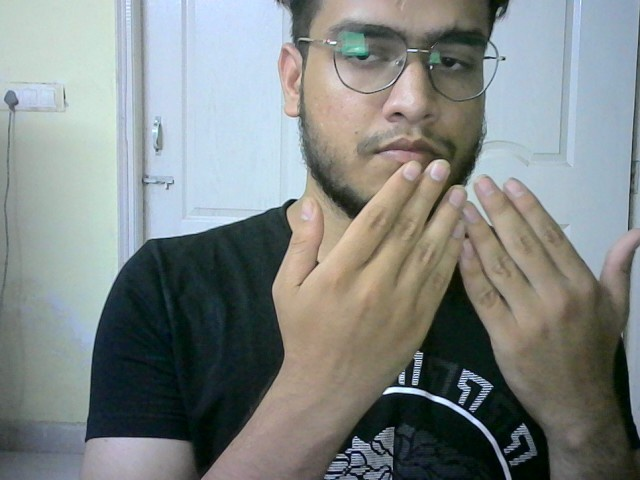Thank You: (269, 152, 640, 389)
